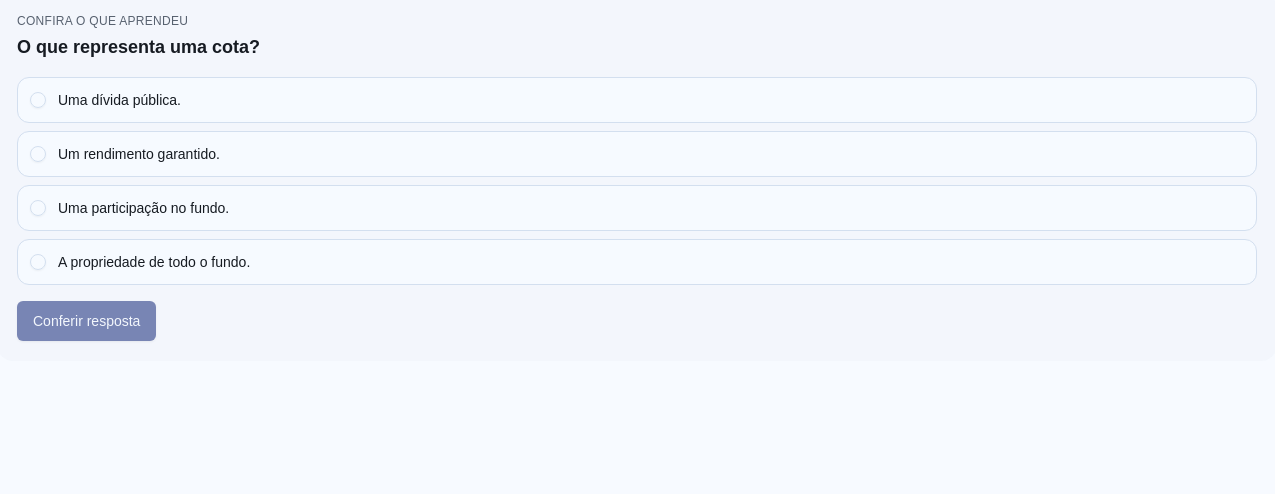
Test case: AssetClassLearningQuiz › confirms a correct choice
This screenshot has width=1275, height=494.
What coordinates should you click on to do the following:
click the radio button named "Uma participação no fundo." next to "Uma participação no fundo."
I would click on:
 (38, 208)
Its box is [30,200,46,216].
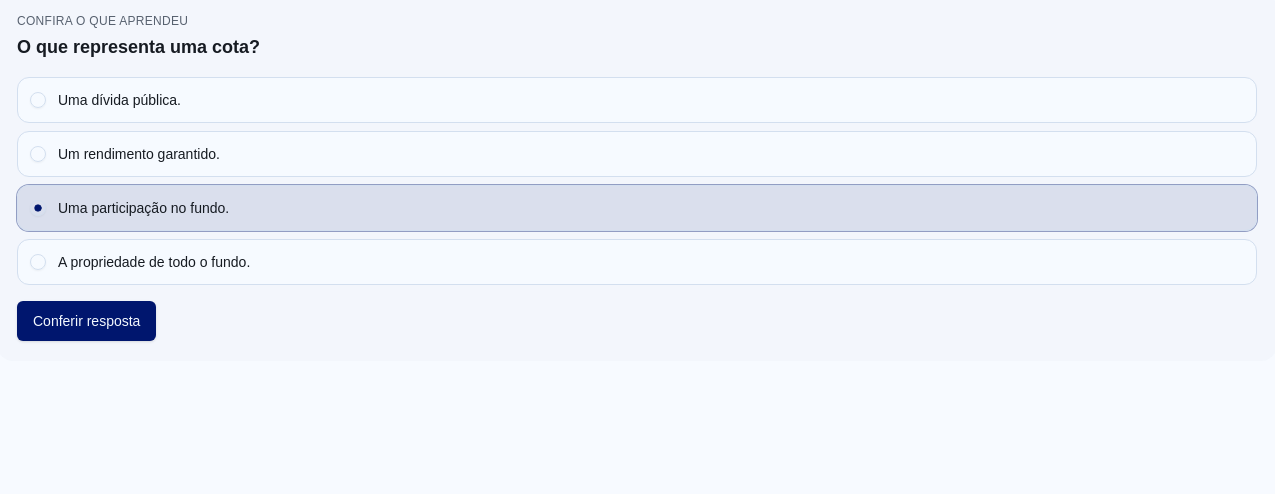
What coordinates should you click on to do the following:
click the button "Conferir resposta"
I would click on:
 (87, 321)
Its box is [17,301,156,341].
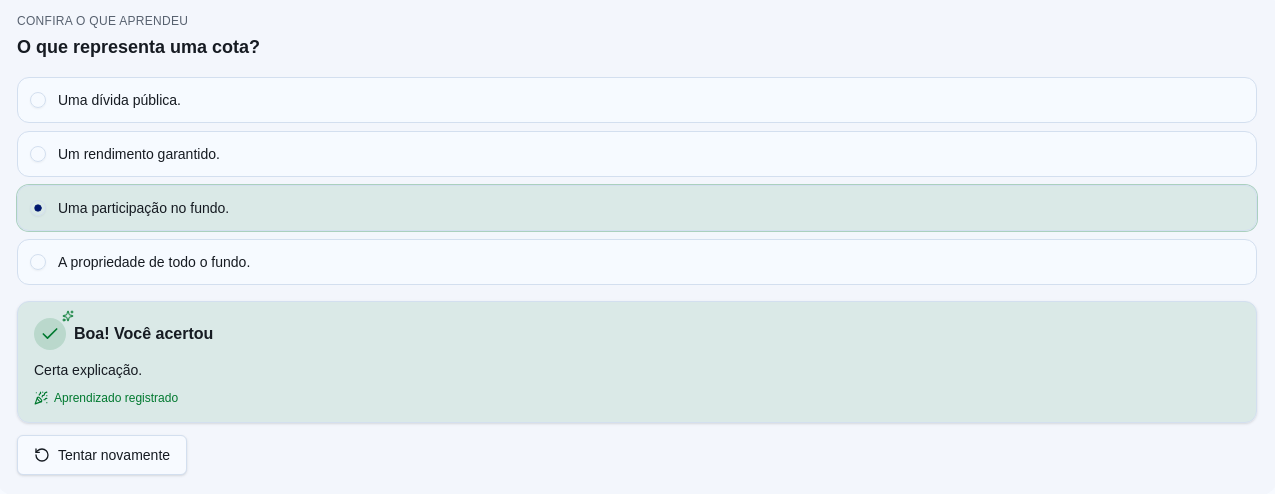
Check: the message shows "Boa! Você acertou", box [74,325,213,342]
Check: the message shows "Aprendizado registrado", box [54,391,178,405]
Check: the message shows "Certa explicação.", box [34,362,142,378]
